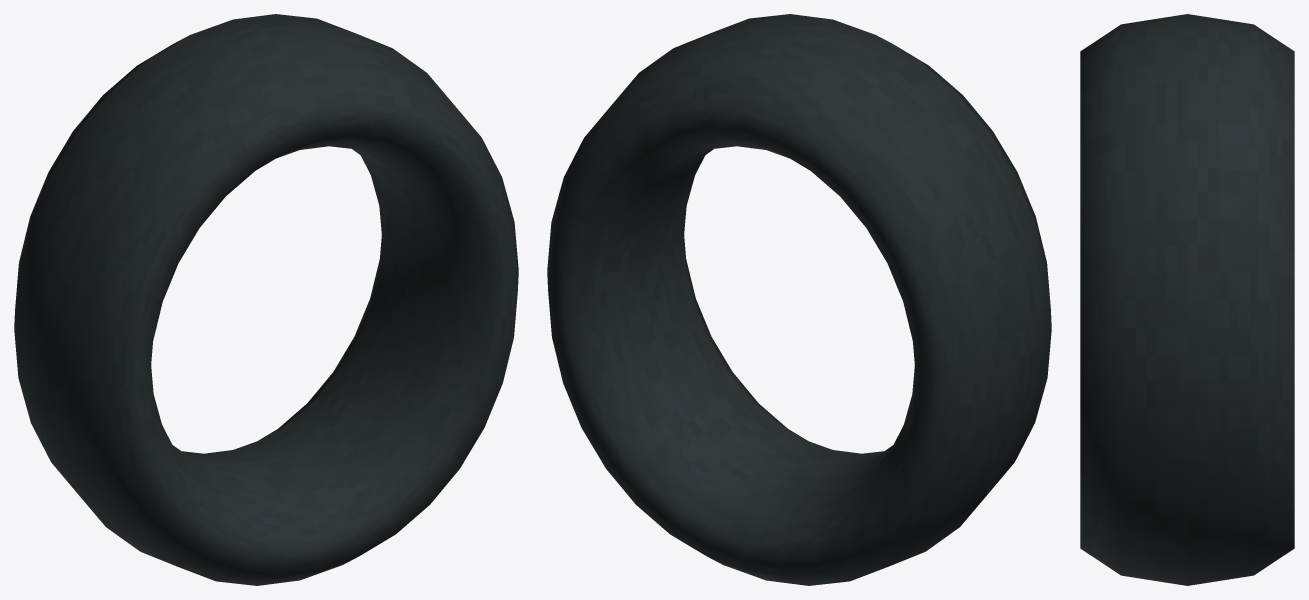
Rendered from headset.glb.
The picture shows the model from 3 angles, left to right: view 1: azimuth 30°, elevation 25°; view 2: azimuth 150°, elevation 25°; view 3: azimuth 270°, elevation 25°; orthographic projection.
Visible parts, largest first — view 1: loop; view 2: loop; view 3: loop.
Part boxes in pixels (x1,y1,x2,y2): loop: [14, 14, 518, 585]; loop: [547, 14, 1051, 585]; loop: [1080, 14, 1294, 585].
Bounding box in the file's own units: 0.17 × 0.19 × 0.07.
1 material, 1 textured.
